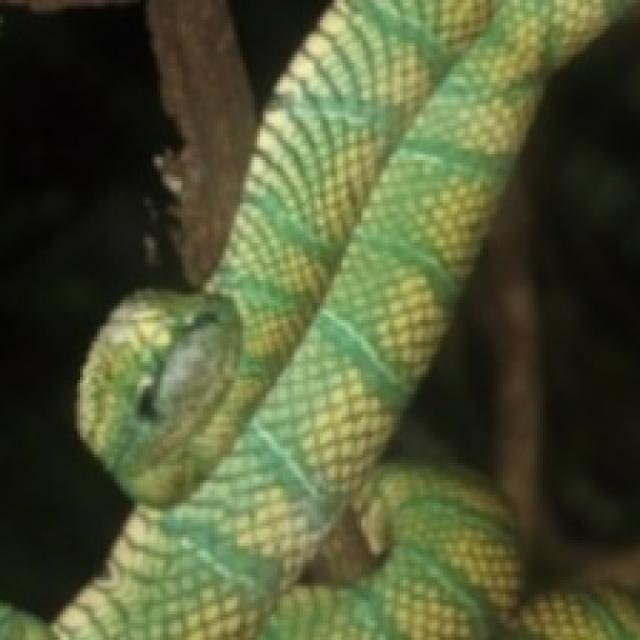north ph temple pitviper: (3, 0, 637, 637)
